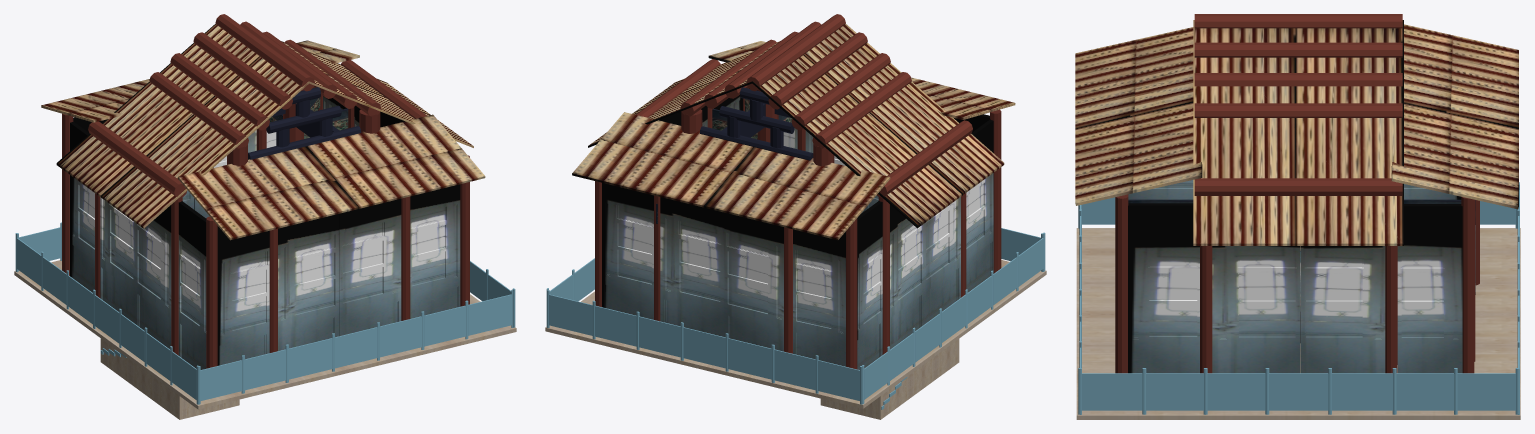
The model's file is haisenmeow.fbx.
3 renders of one model, left to right at view 1: azimuth 30°, elevation 25°; view 2: azimuth 150°, elevation 25°; view 3: azimuth 270°, elevation 25°, orthographic. The views are drawn at different scales.
Parts seen in each view (by area): view 1: pCube37, pCube35, group10_pCube41, pCube28, pCube27, polySurface1, pCube26, pCube23, group7_pCylinder26, pCube21, pCube32, pCube31 (+21 smaller); view 2: pCube36, pCube35, group9_pCube41, pCube30, pCube29, pCube25, pCube24, polySurface1, group7_pCylinder26, pCube31, pCube20, pCube32 (+21 smaller); view 3: pCube35, pCube36, pCube37, group8_pCube41, polySurface1, pCube22, pCube33, pCube19, pCube34, pCylinder9, pCylinder6, pCylinder1 (+12 smaller).
Boxes of the visible parts, left/top/right/bottom form: pCube37: left=178, top=114, right=485, bottom=240; pCube35: left=56, top=24, right=473, bottom=228; group10_pCube41: left=199, top=289, right=513, bottom=404; pCube28: left=339, top=198, right=401, bottom=336; pCube27: left=278, top=214, right=338, bottom=350; polySurface1: left=14, top=260, right=516, bottom=419; pCube26: left=217, top=226, right=269, bottom=365; pCube23: left=410, top=184, right=460, bottom=318; group7_pCylinder26: left=15, top=233, right=199, bottom=404; pCube21: left=178, top=201, right=206, bottom=369; pCube32: left=135, top=205, right=171, bottom=349; pCube31: left=100, top=197, right=135, bottom=323; pCube36: left=572, top=112, right=890, bottom=240; pCube35: left=588, top=24, right=1004, bottom=228; group9_pCube41: left=546, top=290, right=862, bottom=404; pCube30: left=660, top=197, right=723, bottom=336; pCube29: left=724, top=212, right=783, bottom=351; pCube25: left=793, top=229, right=845, bottom=366; pCube24: left=602, top=183, right=653, bottom=319; polySurface1: left=545, top=260, right=1046, bottom=419; group7_pCylinder26: left=862, top=232, right=1045, bottom=404; pCube31: left=890, top=204, right=923, bottom=349; pCube20: left=857, top=201, right=882, bottom=369; pCube32: left=924, top=197, right=960, bottom=324; pCube35: left=1193, top=20, right=1403, bottom=245; pCube36: left=1391, top=24, right=1518, bottom=209; pCube37: left=1075, top=27, right=1202, bottom=205; group8_pCube41: left=1078, top=368, right=1519, bottom=414; polySurface1: left=1076, top=228, right=1520, bottom=419; pCube22: left=1128, top=203, right=1199, bottom=373; pCube33: left=1212, top=246, right=1300, bottom=373; pCube19: left=1397, top=204, right=1462, bottom=373; pCube34: left=1301, top=246, right=1385, bottom=373; pCylinder9: left=1194, top=178, right=1402, bottom=195; pCylinder6: left=1194, top=42, right=1402, bottom=57; pCylinder1: left=1194, top=103, right=1402, bottom=117.
Bounding box in the file's own units: 160 × 146 × 155.
Materials: 1 (1 with a texture image).
